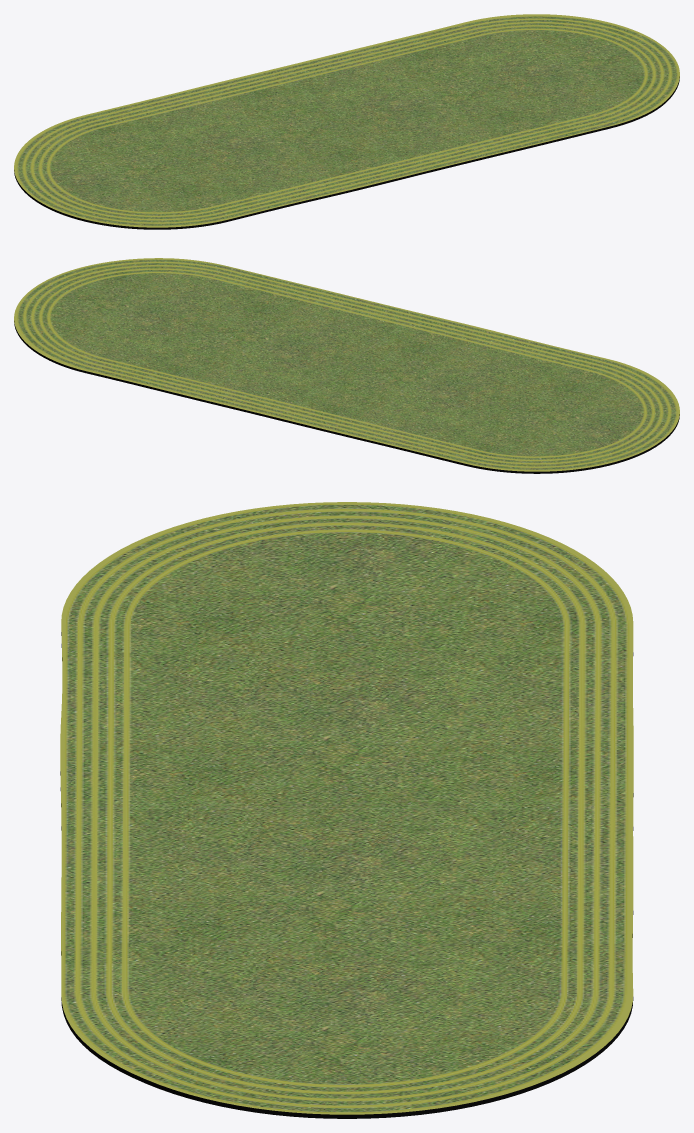
The model's file is Truck3d_d4.glb.
The picture shows the model from 3 angles, top to bottom: view 1: azimuth 30°, elevation 25°; view 2: azimuth 150°, elevation 25°; view 3: azimuth 270°, elevation 25°; orthographic projection. The views are drawn at different scales.
Visible parts, largest first — view 1: path133; view 2: path133; view 3: path133.
Boxes of the visible parts, x1=… form: path133: x1=14, y1=14, x2=679, y2=229; path133: x1=14, y1=258, x2=679, y2=473; path133: x1=60, y1=502, x2=633, y2=1118.
Size of the model in its own units: 5.43 by 0.0175 by 2.15.
Materials: 1 (1 with a texture image).
